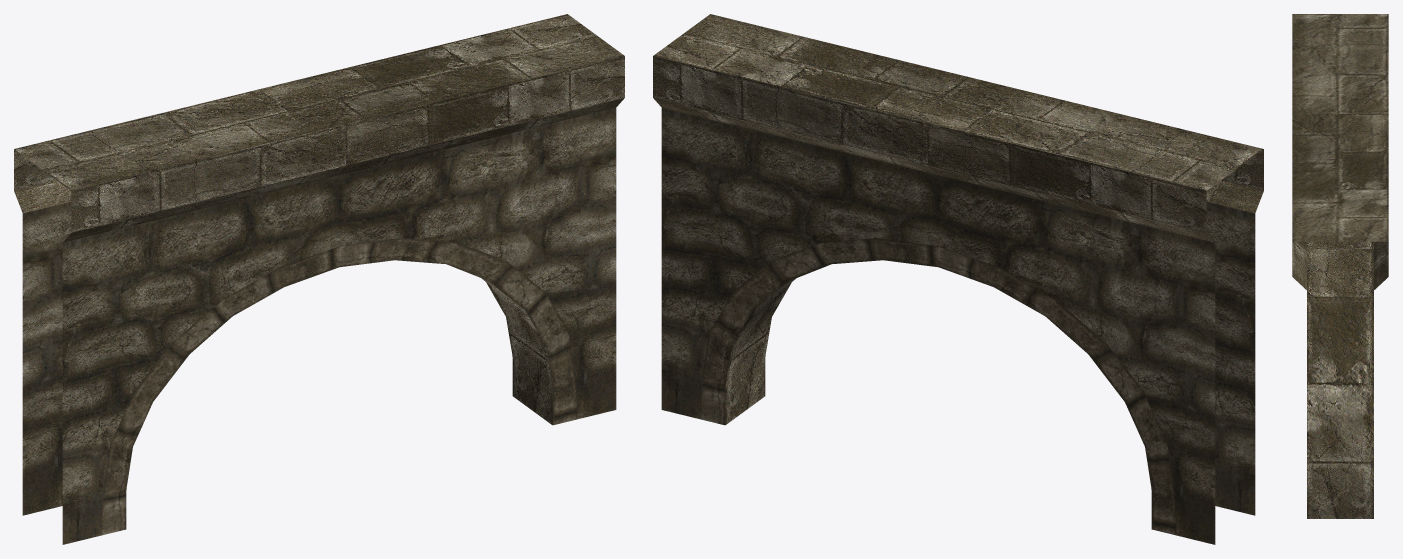
Rendered from welder_convex_arch_01.DAE.
The picture shows the model from 3 angles, left to right: view 1: azimuth 30°, elevation 25°; view 2: azimuth 150°, elevation 25°; view 3: azimuth 270°, elevation 25°; orthographic projection. The views are drawn at different scales.
Parts seen in each view (by area): view 1: Box003; view 2: Box003; view 3: Box003.
Part boxes in pixels (<box>): Box003: <box>14,14,624,544</box>; Box003: <box>653,14,1263,544</box>; Box003: <box>1292,14,1388,518</box>.
Bounding box in the file's own units: 4 × 2.49 × 0.717.
